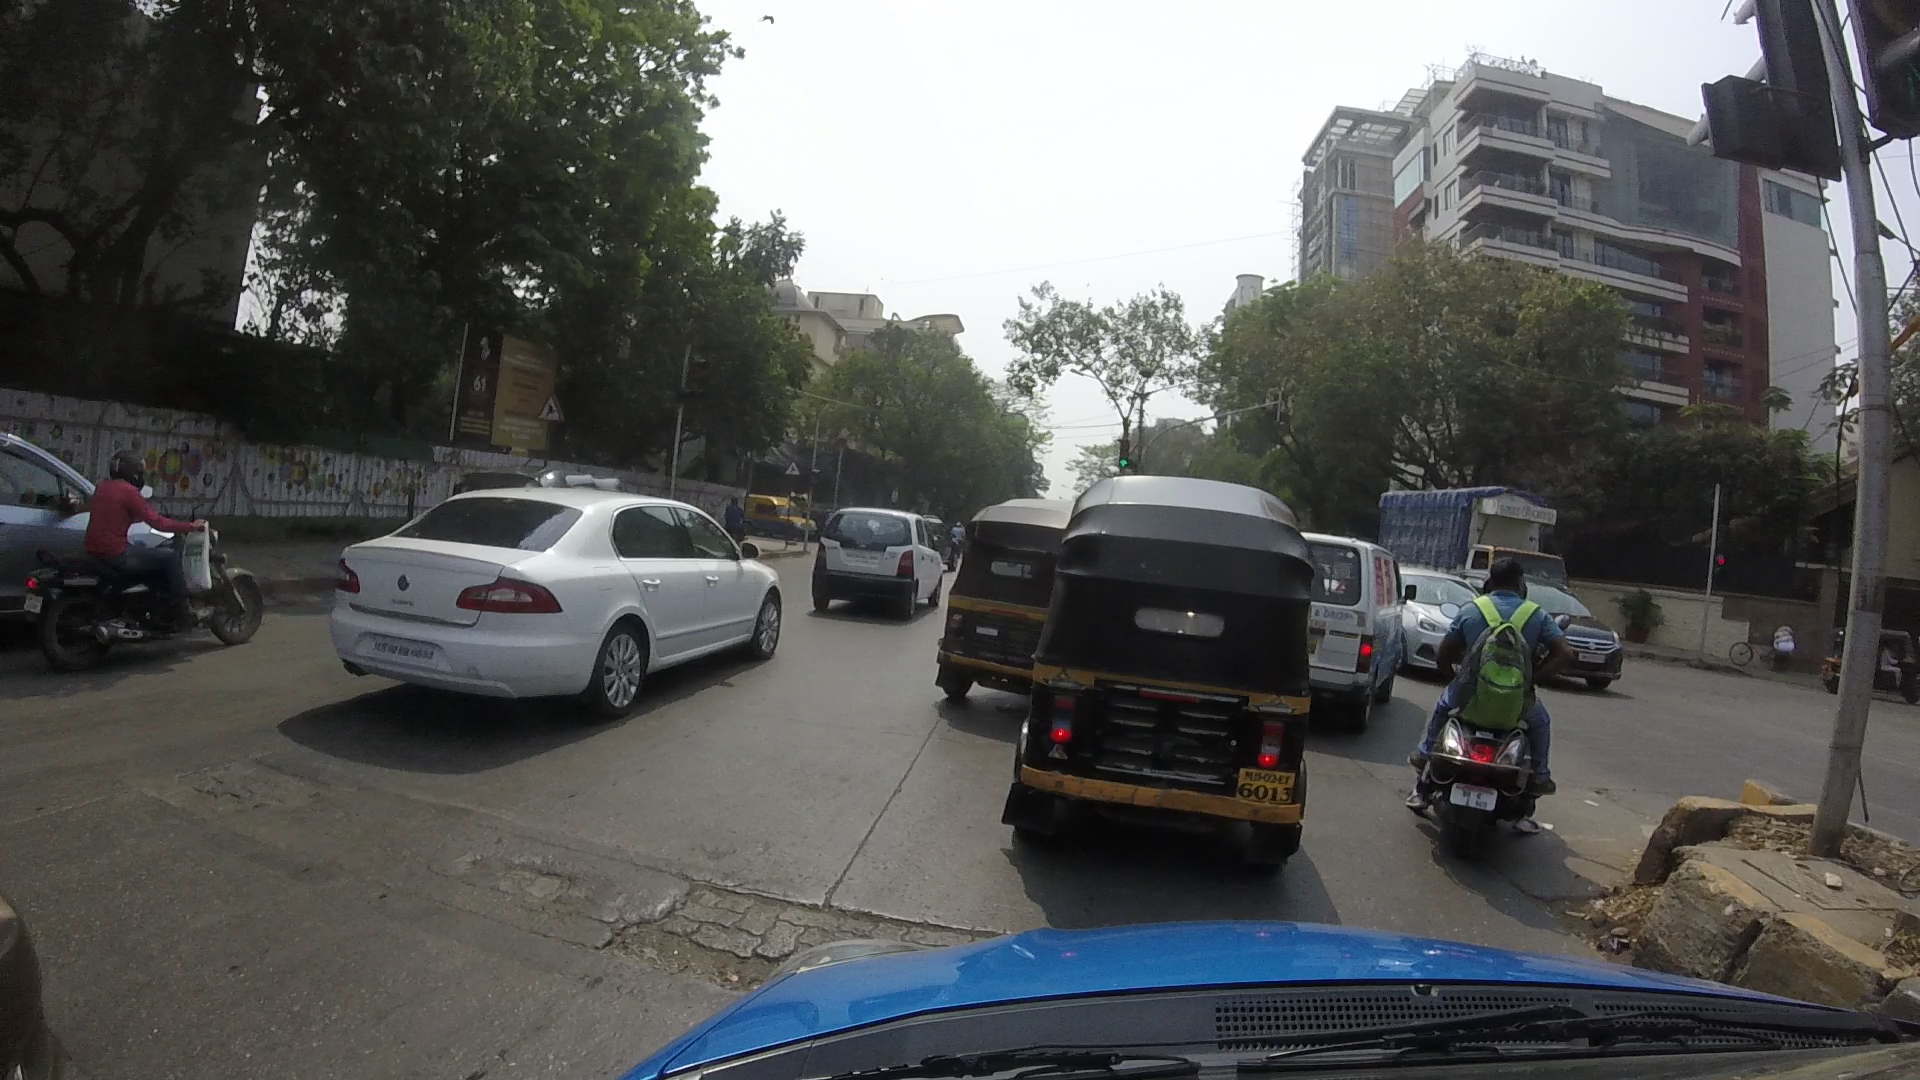bike/scooter: (55, 454, 261, 659), (1431, 560, 1557, 869)
car: (334, 488, 785, 709), (13, 433, 178, 574), (1308, 533, 1404, 736), (814, 506, 945, 618)
rickshaw: (1022, 469, 1323, 839), (943, 495, 1052, 713)
truck: (1375, 480, 1561, 583)
